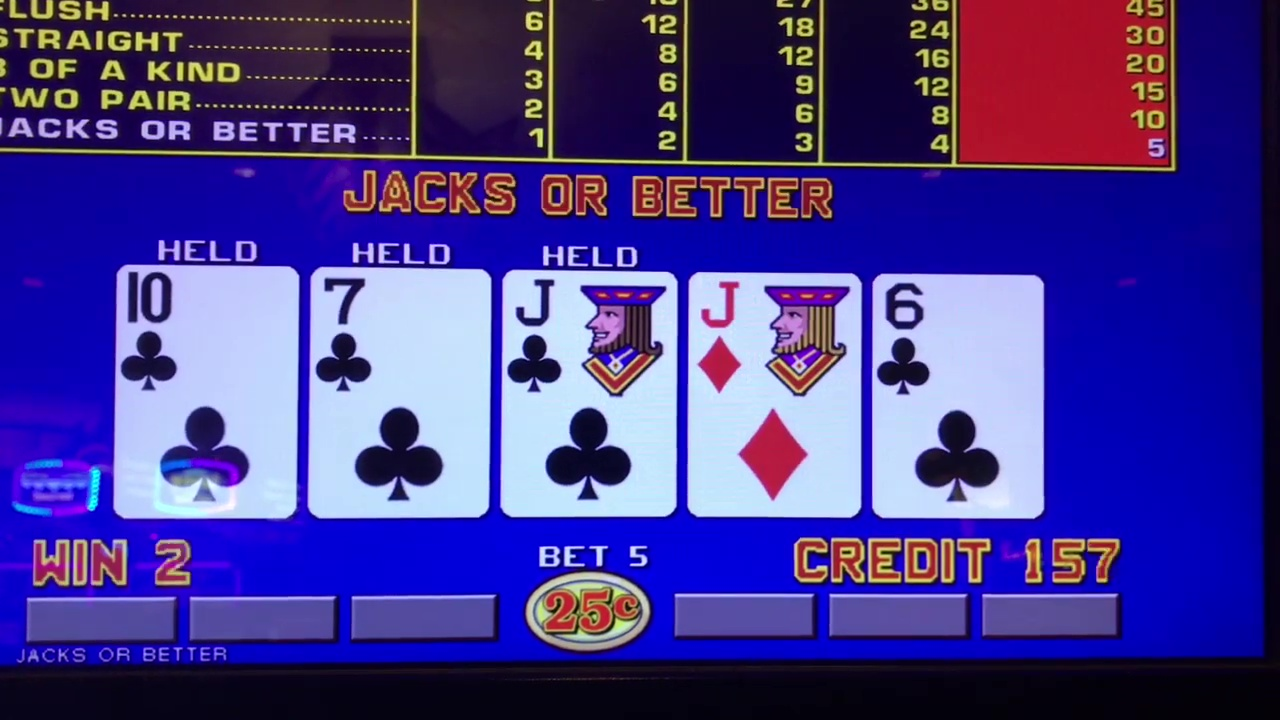C6: (879, 270, 1038, 403)
C7: (317, 271, 483, 403)
CJ: (509, 273, 665, 404)
CT: (122, 265, 295, 403)
DJ: (691, 273, 857, 404)
